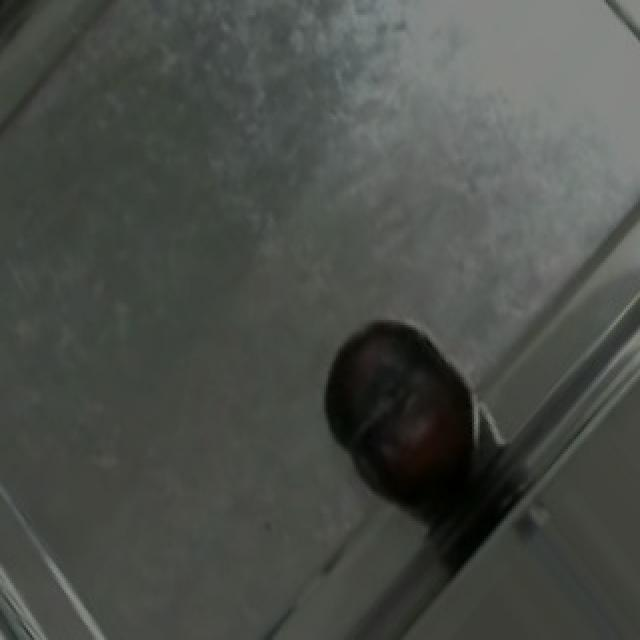Fruit: (300, 300, 500, 526)
